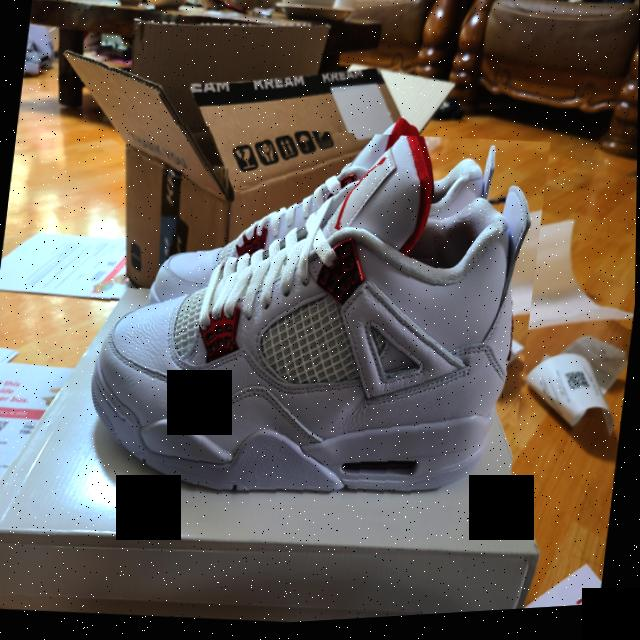shoe: (71, 103, 551, 561)
